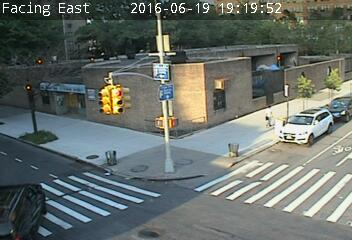neg: (154, 71, 179, 105), (128, 85, 146, 109), (92, 73, 106, 92)
pos: (260, 104, 278, 127)
